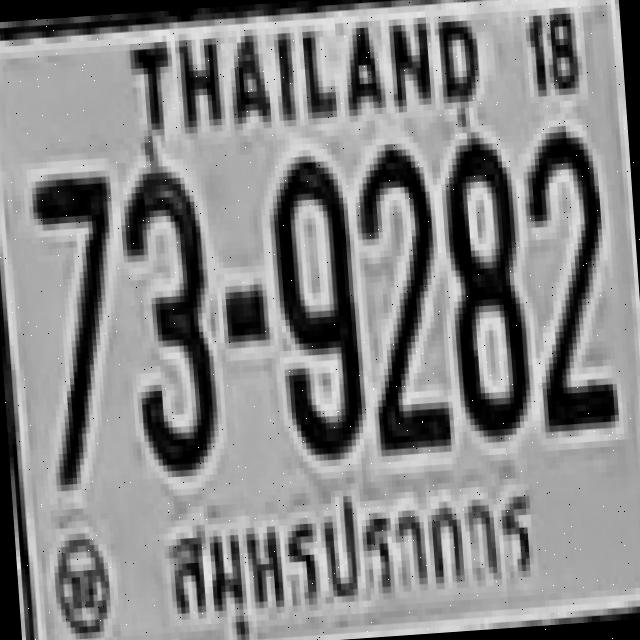2: (518, 124, 612, 426), (351, 142, 446, 438), (522, 123, 611, 401)
3: (116, 164, 216, 472)
7: (26, 170, 126, 479), (27, 173, 119, 377)
8: (437, 129, 528, 432)
9: (264, 148, 364, 456)
SamutPrakan: (148, 469, 546, 640)
